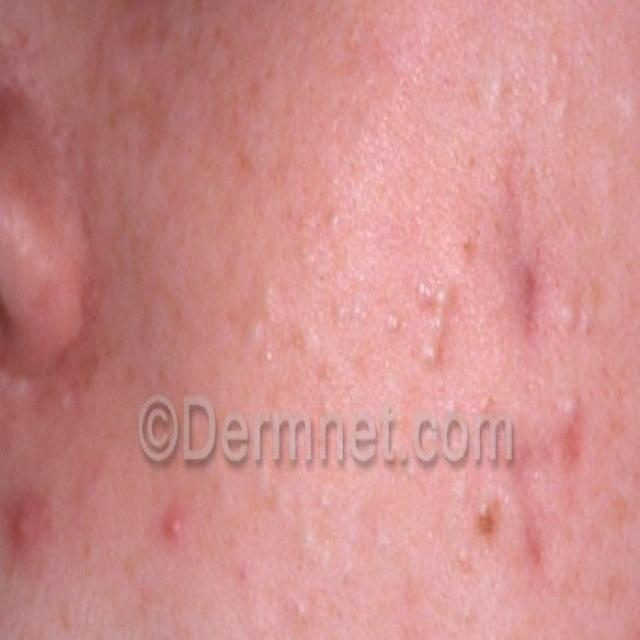Acne: (500, 195, 556, 385), (3, 471, 58, 573), (138, 499, 221, 558), (555, 388, 593, 515), (468, 474, 509, 561)
